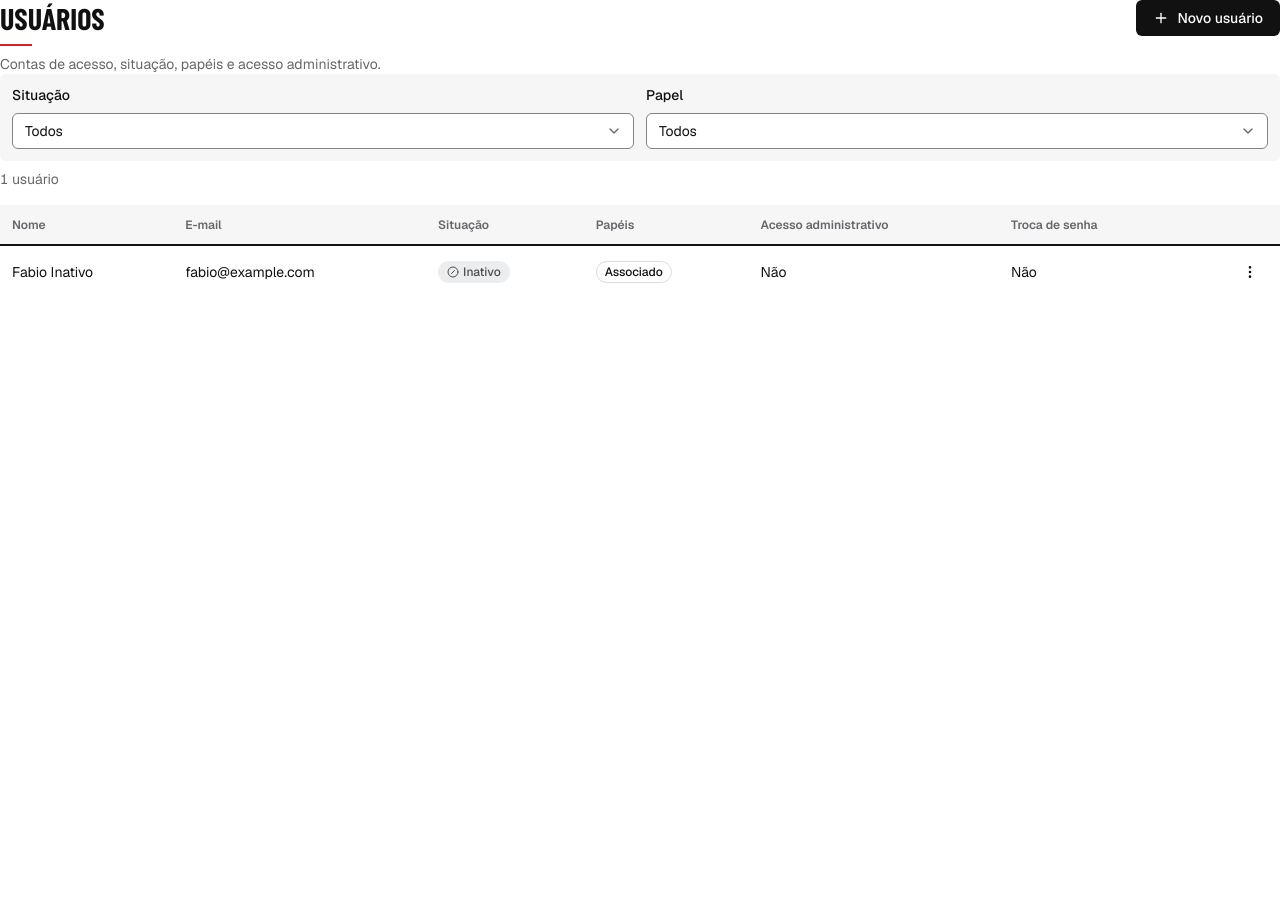
Test: confirmações (DSP-03 AC2, AC3 e AC5) › Reativar Fabio Inativo: o erro da API aparece dentro da confirmação, que continua aberta
Expected: the text "fabio@example.com" is shown, [173,245,426,298]
Step 1. Click the button named "Ações de Fabio Inativo" → (1250, 272), box [1232,254,1268,290]
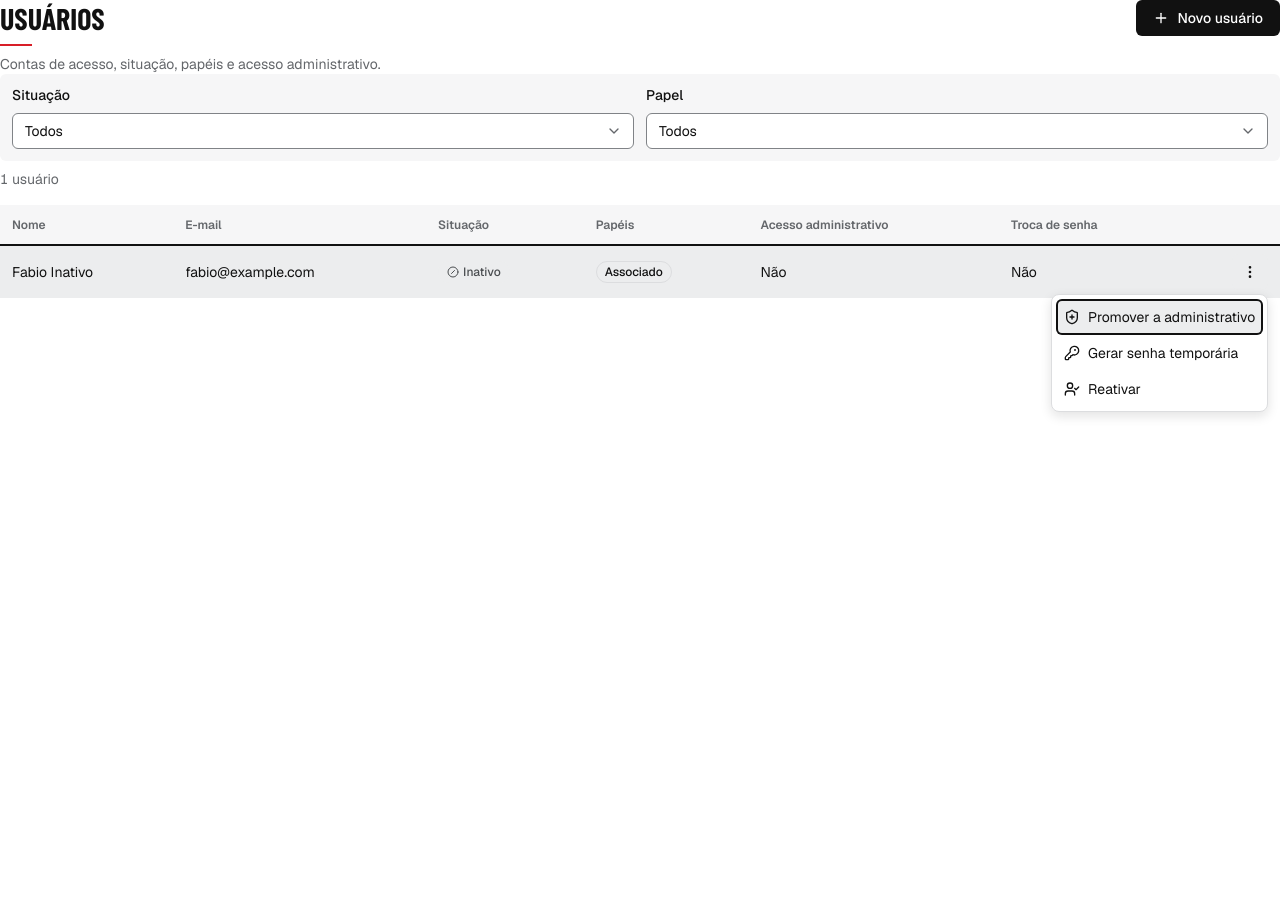
Now the menu is shown, box [1051,294,1268,412]
Step 2. Click the menu item with aria-label "Reativar Fabio Inativo" → (1102, 389), box [1064,380,1141,398]
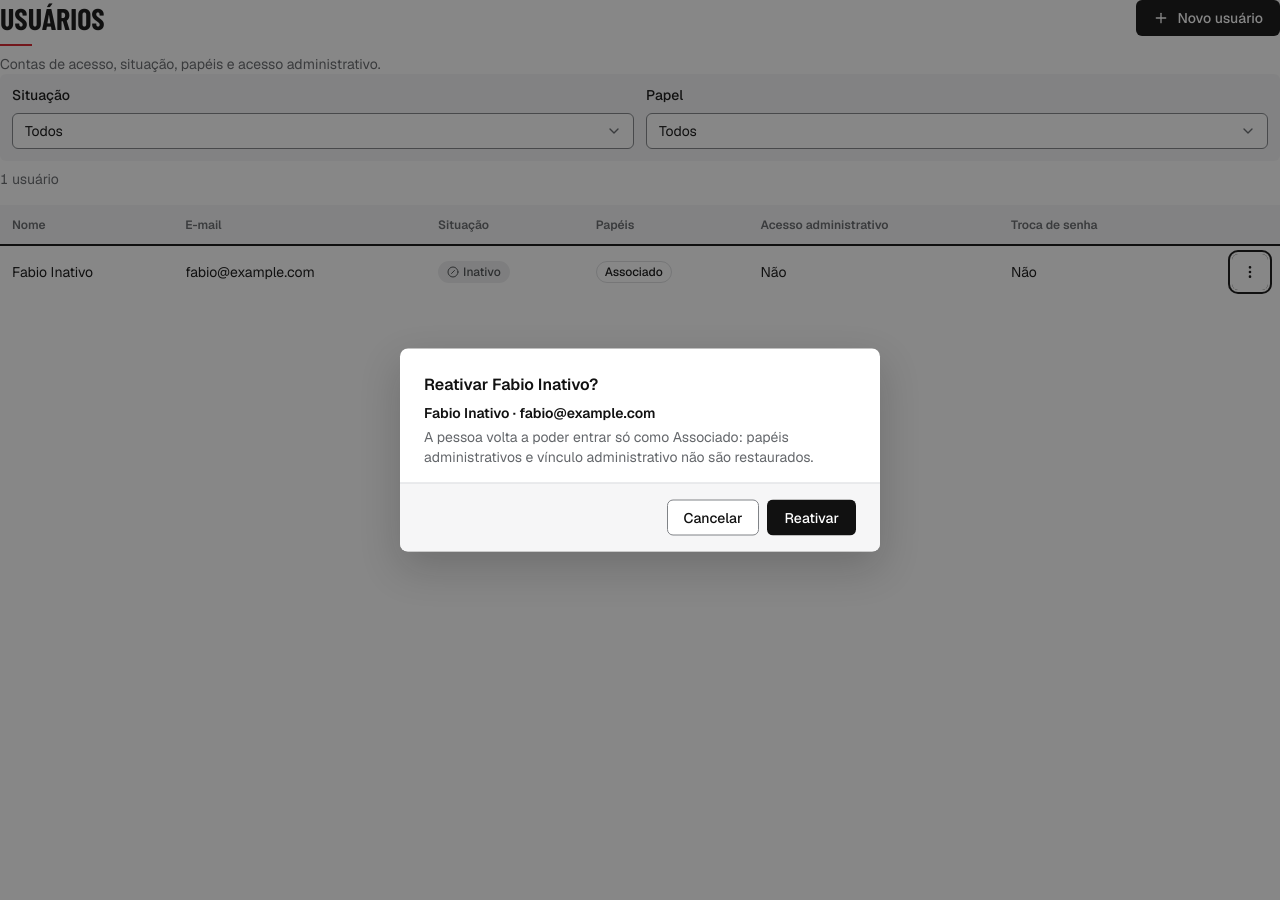
Step 3. Click the button "Reativar" → (812, 518), box [768,500,856,536]
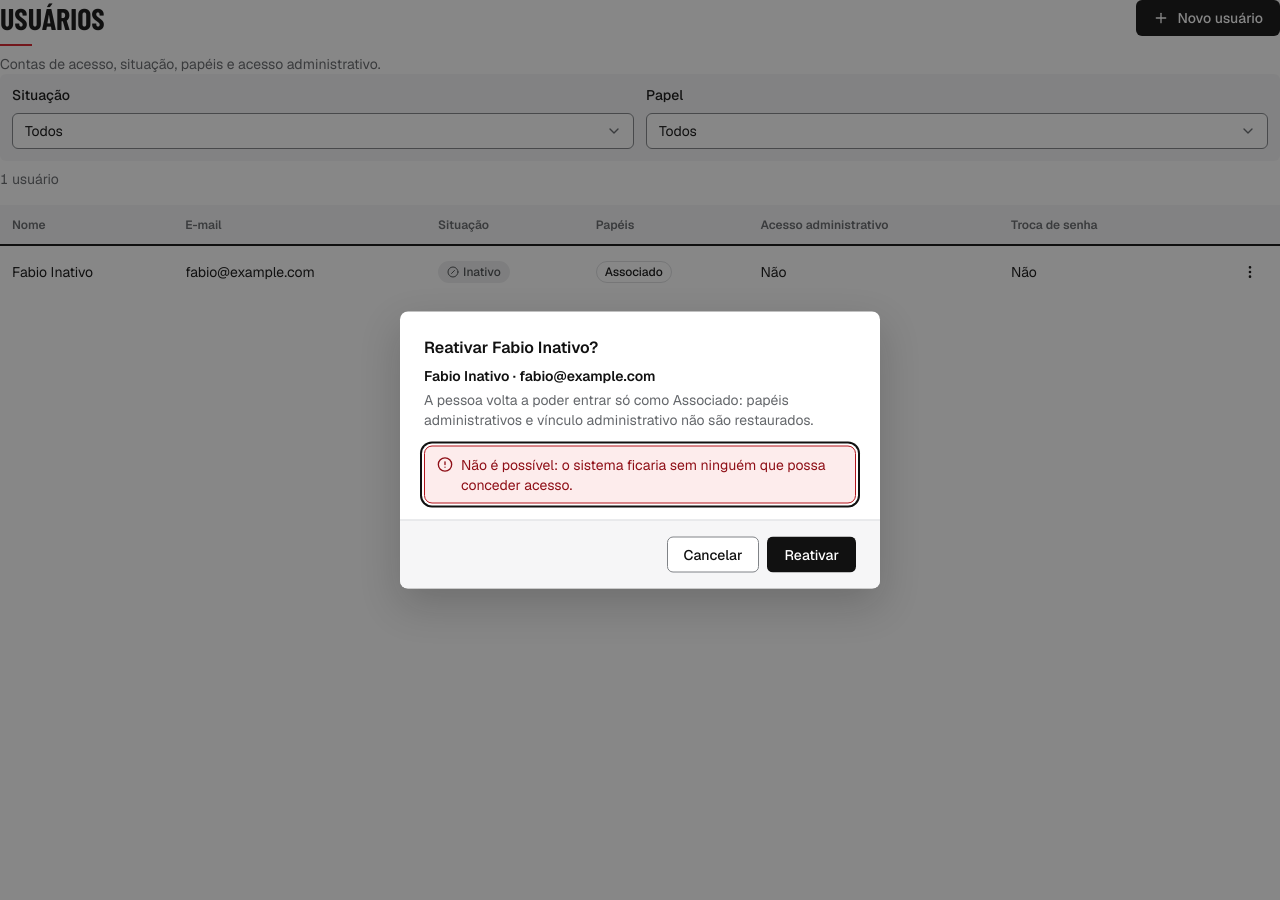
Now the text "Não é possível: o sistema ficaria sem ninguém que possa conceder acesso." is shown, box [461,454,843,494]
